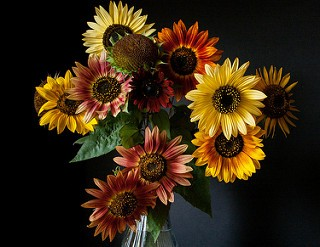flower: (110, 124, 195, 206), (183, 57, 268, 139), (156, 17, 233, 103), (59, 50, 135, 132), (80, 167, 161, 243), (76, 0, 161, 69), (31, 68, 102, 139), (246, 64, 309, 142), (189, 124, 267, 184)
